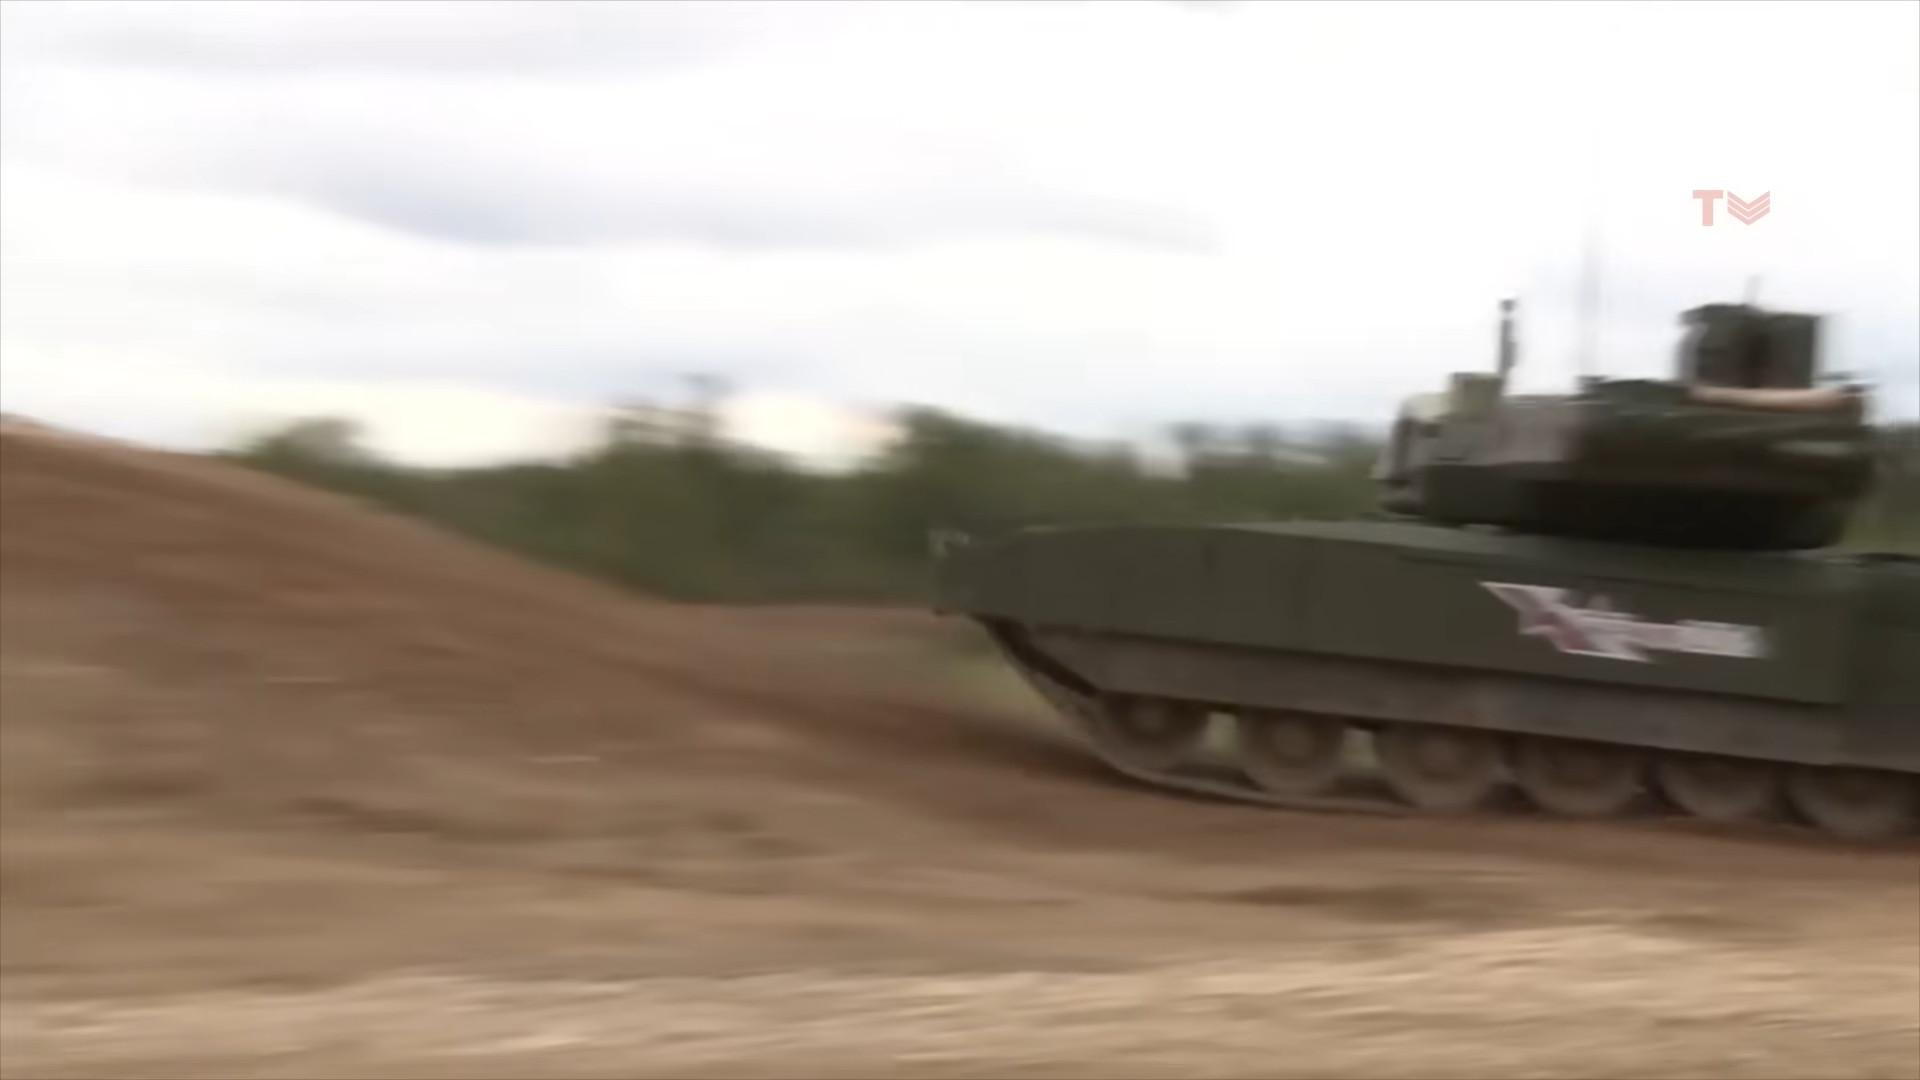tank: (933, 305, 1919, 853)
